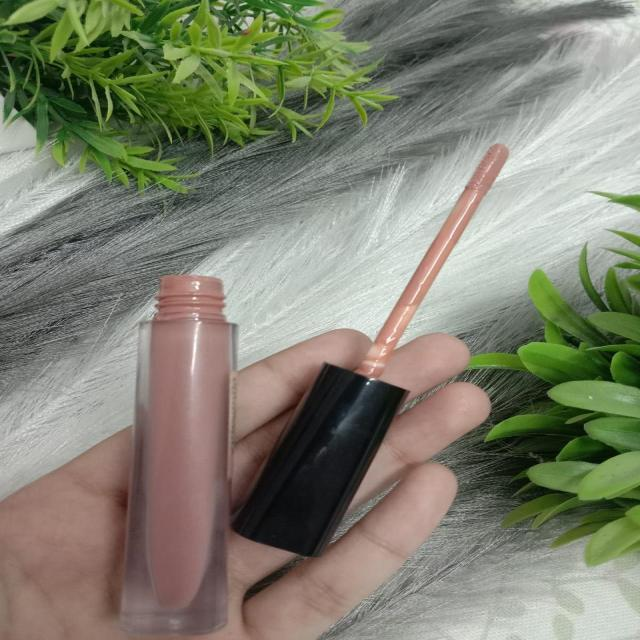lip gloss: (138, 269, 240, 628)
lip liner: (264, 140, 537, 539)
